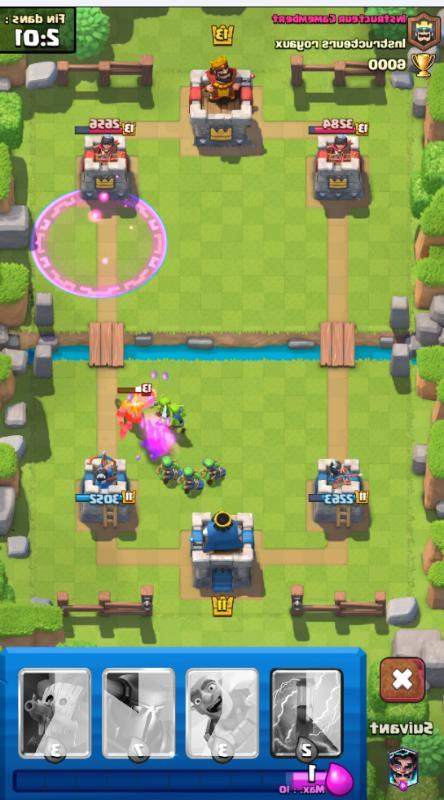enemy_lumberjack: (113, 383, 157, 435)
player_goblins: (159, 402, 190, 433)
player_spear_goblins: (197, 453, 228, 485), (179, 464, 205, 496), (157, 456, 184, 486)
rage: (25, 184, 174, 304)
